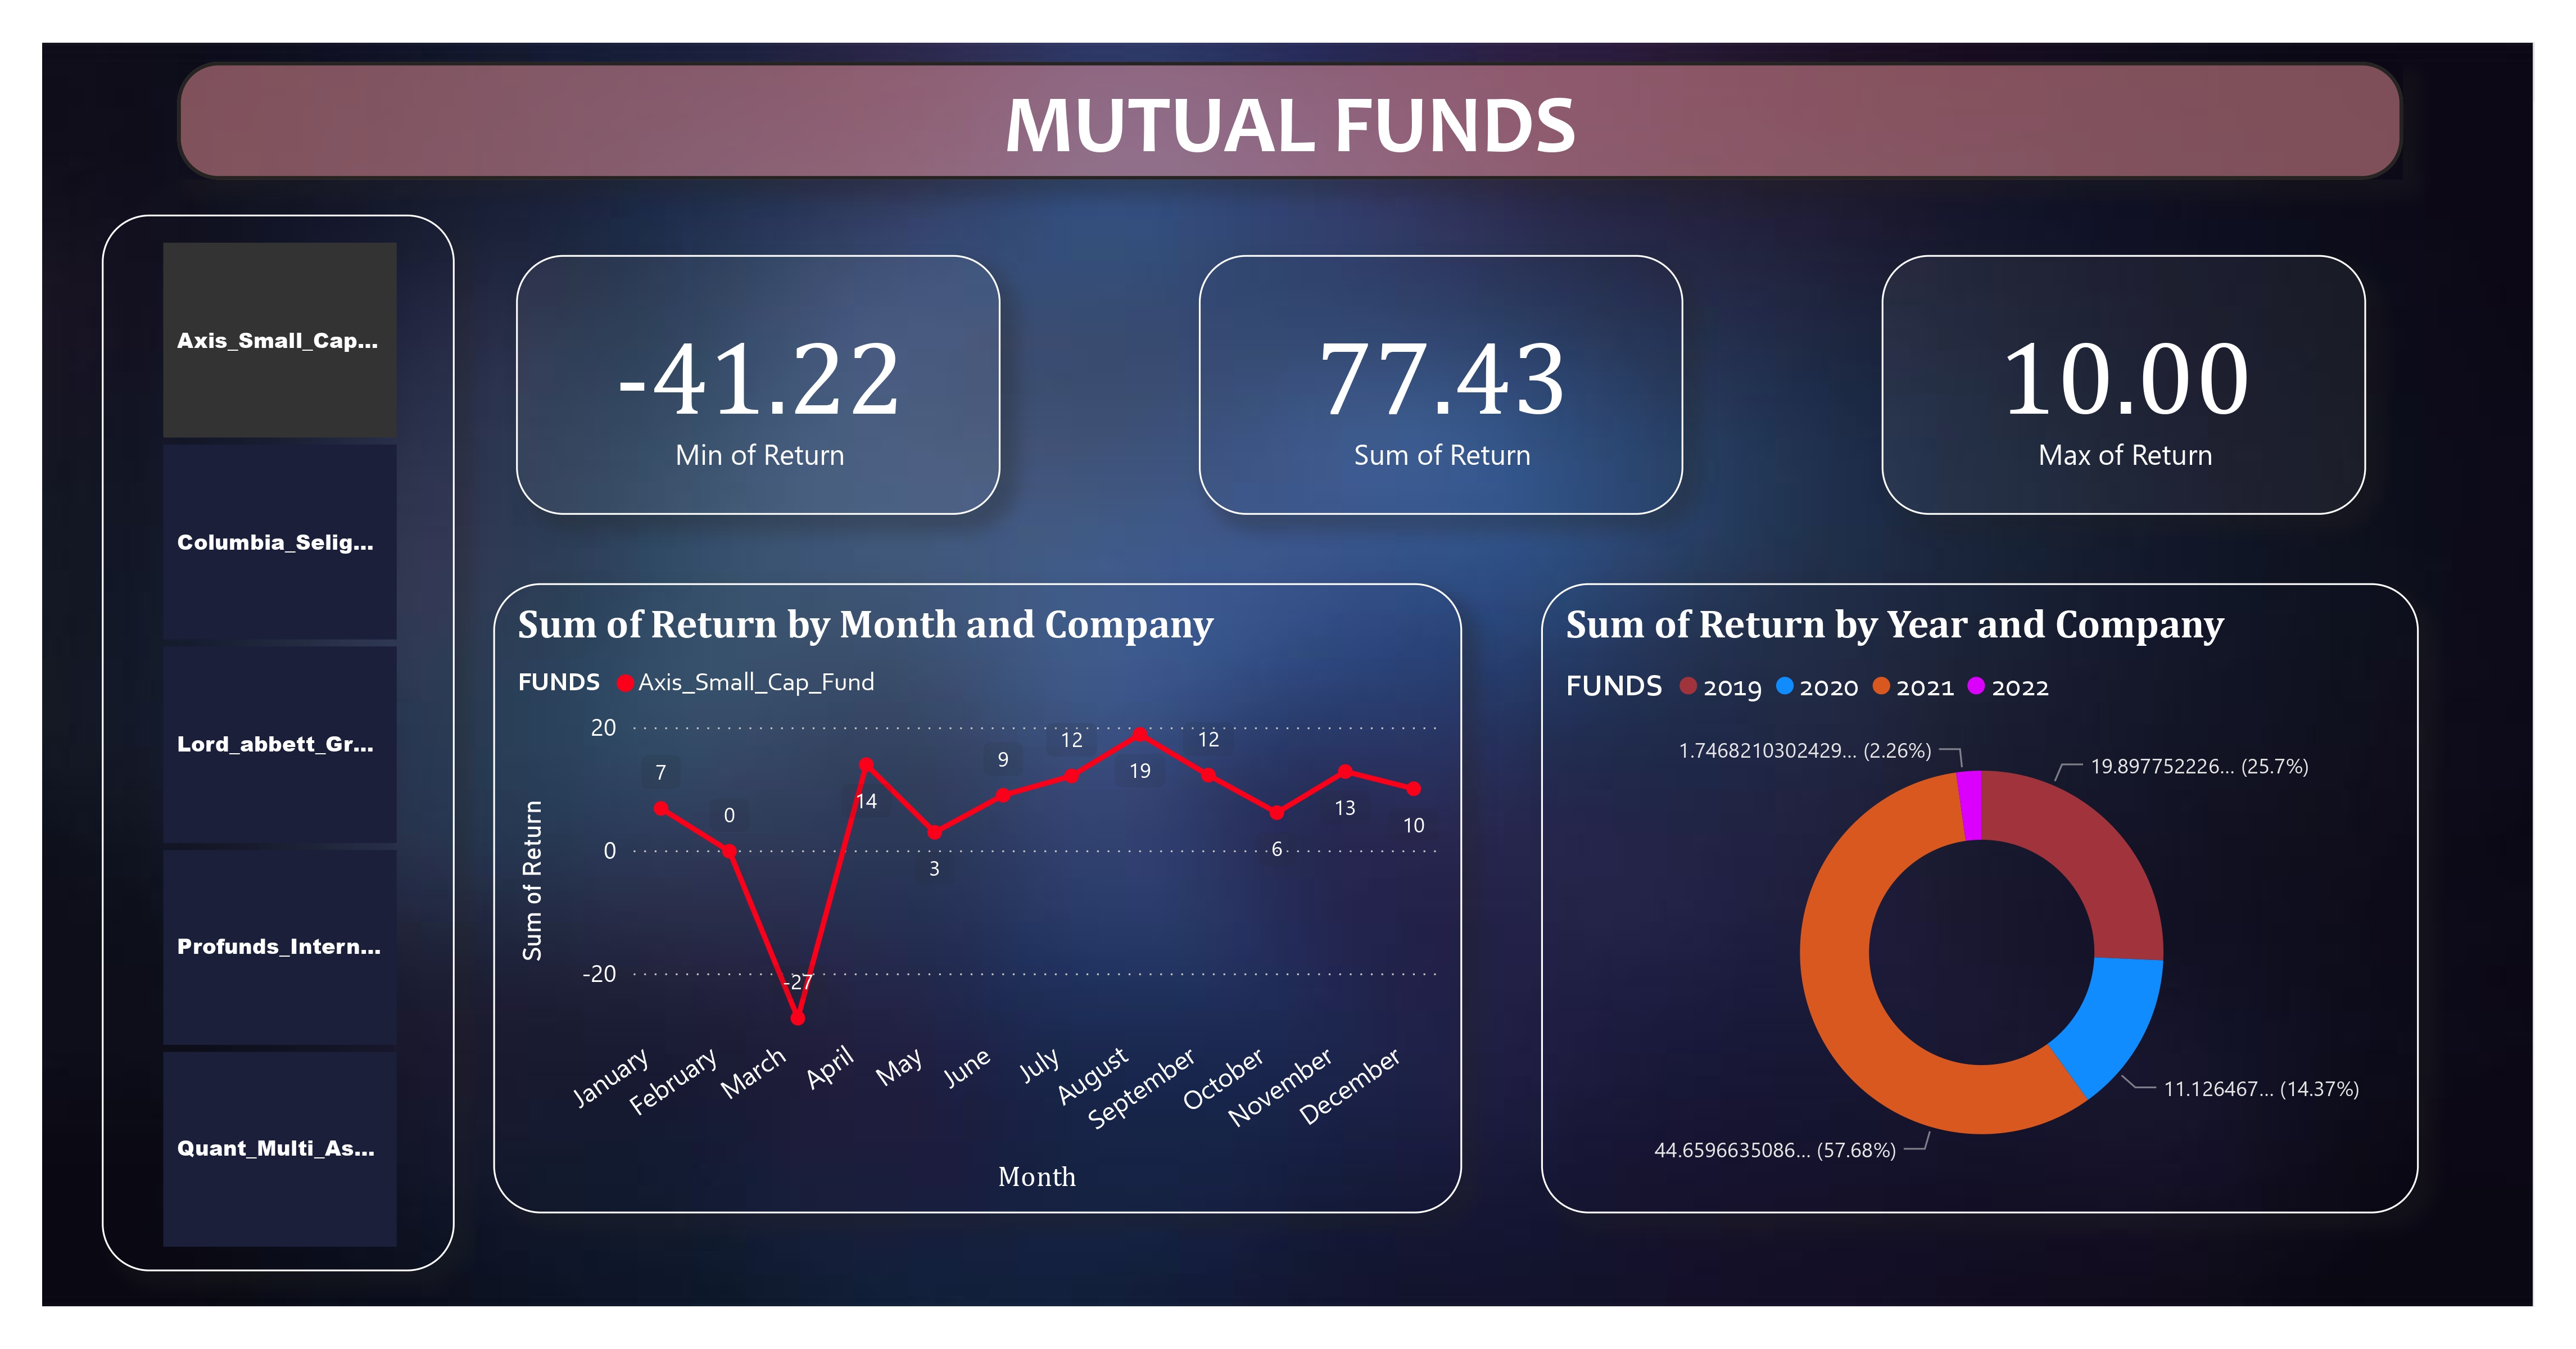

Layout of this report page (visuals, bound fields, positions):
{"tool":"powerbi","page":{"name":"Mutual Funds","canvas":[1419,720],"ordinal":0},"visuals":[{"type":"pieChart","fields":{"Category":["Sheet1 (2).Date.Variation.Date Hierarchy.Year","Sheet1 (2).Date.Variation.Date Hierarchy.Quarter","Sheet1 (2).Date.Variation.Date Hierarchy.Month","Sheet1 (2).Date.Variation.Date Hierarchy.Day"],"Y":["Sum(Sheet1.Return)"],"Series":["Sheet1.Company"]},"box":[853.5,308.3,500.8,358.3],"z":0},{"type":"card","fields":{"Values":["Min(Sheet1 (2).Return)"]},"box":[270.4,121.3,276,148],"z":1000},{"type":"slicer","fields":{"Values":["Sheet1 (2).Company"]},"box":[33.8,97.7,201.4,602],"z":2000},{"type":"shape","box":[77.2,11.3,1267.6,67],"z":3000},{"type":"card","fields":{"Values":["Sum(Sheet1 (2).Return)"]},"box":[658.8,121.3,276,148],"z":4000},{"type":"card","fields":{"Values":["Max(Sheet1 (2).Return)"]},"box":[1048.3,121.3,276,148],"z":5000},{"type":"lineChart","fields":{"Category":["Sheet1.Date.Variation.Date Hierarchy.Month"],"Y":["Sum(Sheet1.Return)"],"Series":["Sheet1.Company"]},"box":[257.1,308.3,552,358.3],"z":6000}]}

Visuals, with their boxes on the page's 1419x720 design canvas (x1, y1, x2, y2). These are canvas units, not pixel positions in the 2576x1349 screenshot, which may show the page scaled, cropped or inside an application window:
pieChart - Sheet1 (2).Date.Variation.Date Hierarchy.Year x Sheet1 (2).Date.Variation.Date Hierarchy.Quarter: <box>854,308,1354,667</box>
card - Min(Sheet1 (2).Return): <box>270,121,546,269</box>
slicer - Sheet1 (2).Company: <box>34,98,235,700</box>
shape: <box>77,11,1345,78</box>
card - Sum(Sheet1 (2).Return): <box>659,121,935,269</box>
card - Max(Sheet1 (2).Return): <box>1048,121,1324,269</box>
lineChart - Sheet1.Date.Variation.Date Hierarchy.Month x Sum(Sheet1.Return): <box>257,308,809,667</box>
